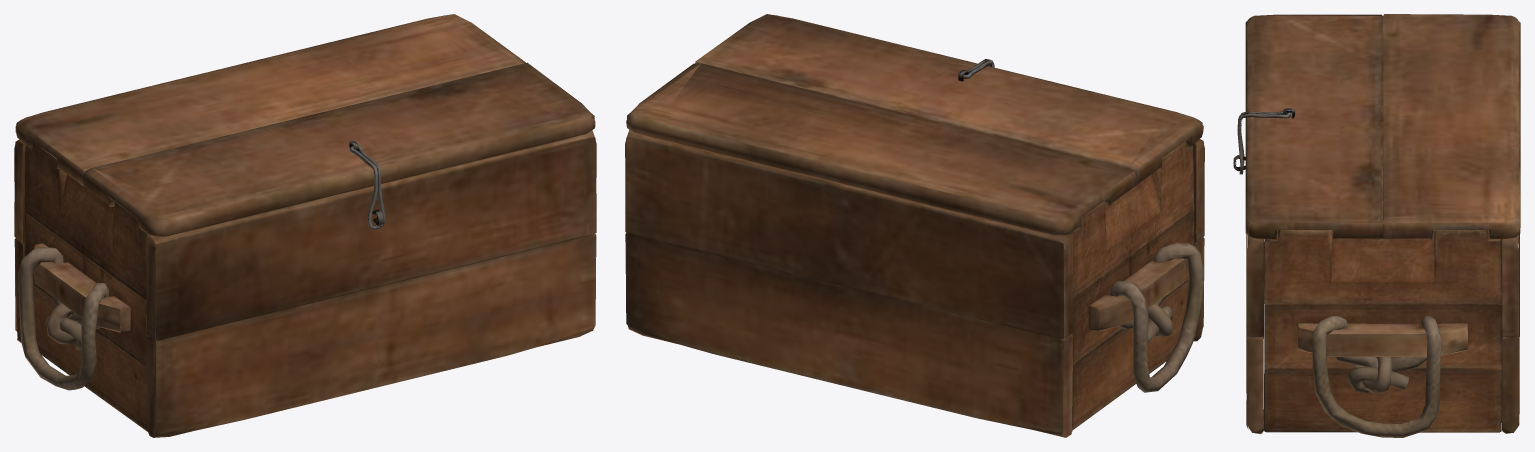
File: ph_wooden_crate_01.glb
3 views of the same model, side by side, from view 1: azimuth 30°, elevation 25°; view 2: azimuth 150°, elevation 25°; view 3: azimuth 270°, elevation 25° (orthographic). The views are drawn at different scales.
Parts seen in each view (by area): view 1: wooden_crate_01_lid; view 2: wooden_crate_01_lid; view 3: wooden_crate_01_lid.
Boxes of the visible parts, <box> form: wooden_crate_01_lid: <box>14,14,596,437</box>; wooden_crate_01_lid: <box>625,14,1204,437</box>; wooden_crate_01_lid: <box>1233,14,1520,437</box>.
Size of the model in its own units: 0.8246 by 0.3487 by 0.4088.
1 material, 1 textured.
